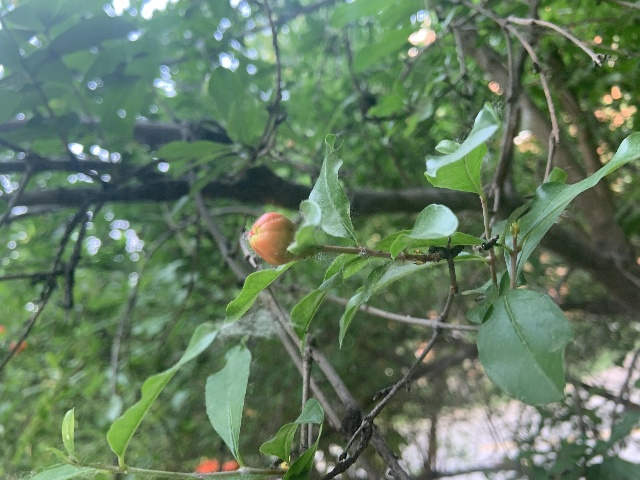bud: (248, 212, 295, 266)
